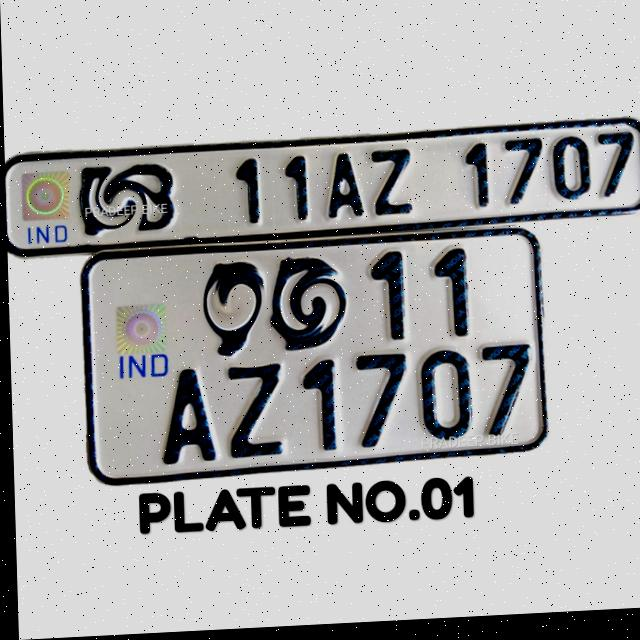plate: (77, 236, 548, 488), (4, 126, 640, 250)
